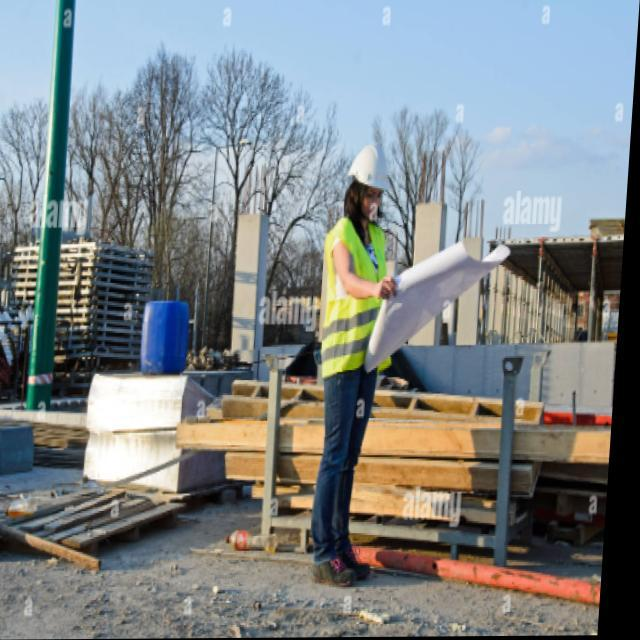boots: (306, 541, 376, 590)
helmet: (344, 145, 394, 228)
vest: (316, 216, 397, 385)
